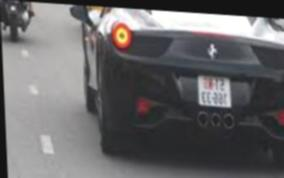License_Plate: (197, 75, 233, 110)
